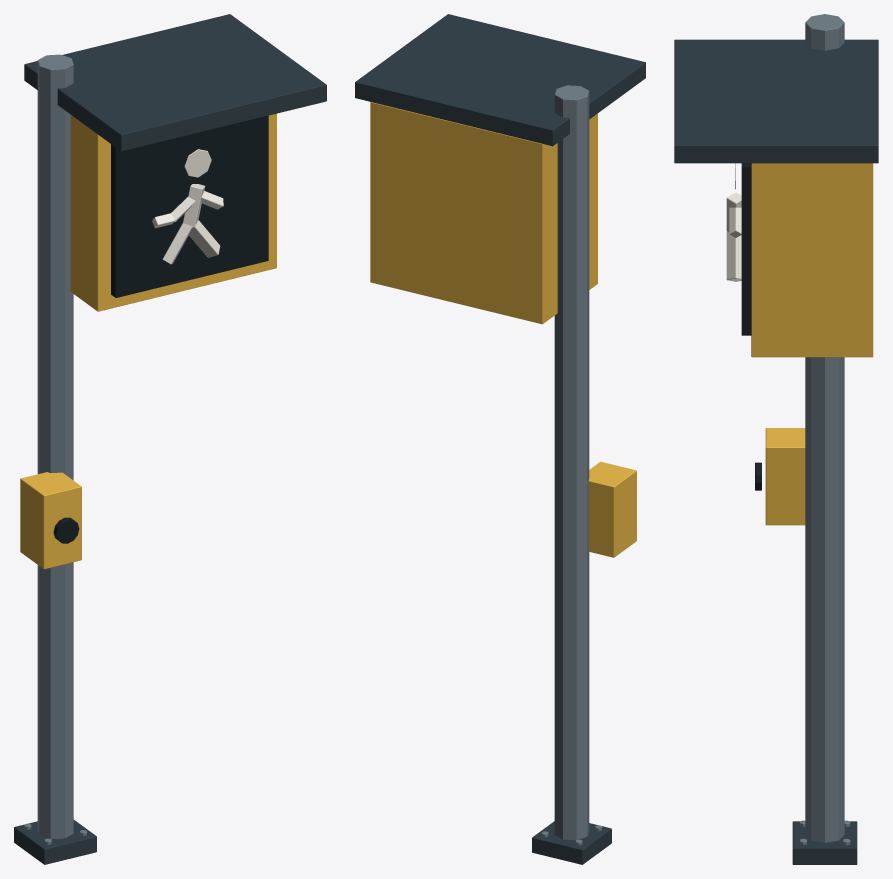
Rendered from b02_pedestrian_walk_signal.glb.
3 views of the same model, side by side, from view 1: azimuth 30°, elevation 25°; view 2: azimuth 150°, elevation 25°; view 3: azimuth 270°, elevation 25° (orthographic). The views are drawn at different scales.
Parts seen in each view (by area): view 1: b02_pedestrian_walk_signal; view 2: b02_pedestrian_walk_signal; view 3: b02_pedestrian_walk_signal.
Boxes of the visible parts, x1,y1,x2,y2 form: b02_pedestrian_walk_signal: (14, 14, 326, 864); b02_pedestrian_walk_signal: (355, 14, 645, 864); b02_pedestrian_walk_signal: (674, 14, 878, 864).
Bounding box in the file's own units: 0.815 × 2.55 × 0.57.
